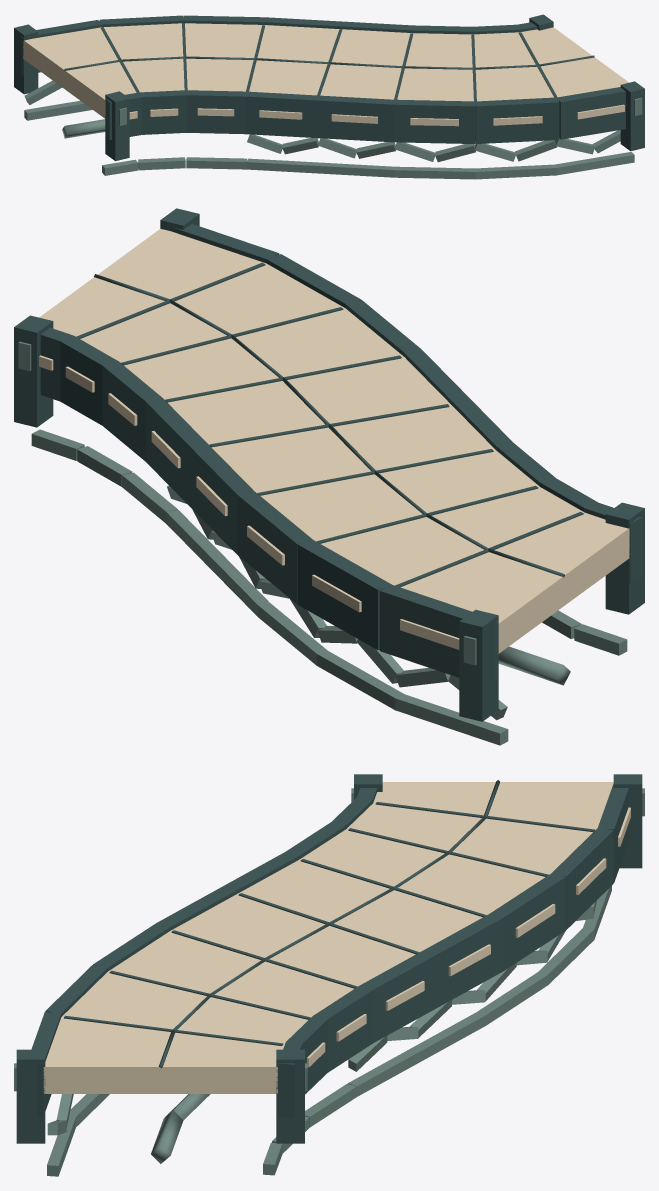
The model's file is Sbend_R4_lab2.glb.
The picture shows the model from 3 angles, top to bottom: view 1: azimuth 30°, elevation 25°; view 2: azimuth 150°, elevation 25°; view 3: azimuth 270°, elevation 25°; orthographic projection. The views are drawn at different scales.
Parts seen in each view (by area): view 1: Sbend_R4; view 2: Sbend_R4; view 3: Sbend_R4.
Part boxes in pixels (left/top/right/bottom): Sbend_R4: left=14, top=14, right=644, bottom=179; Sbend_R4: left=14, top=208, right=644, bottom=745; Sbend_R4: left=14, top=774, right=644, bottom=1176.
Size of the model in its own units: 8.08 by 1.52 by 7.48.
